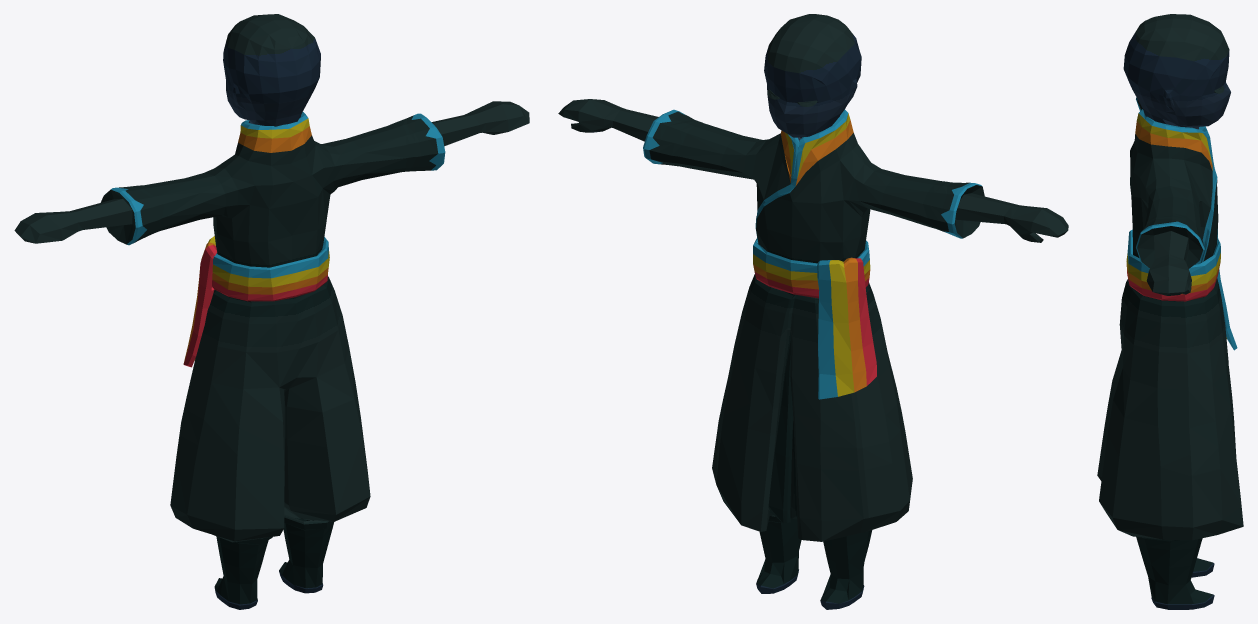
File: CharSkyKid_Body_DarkRainbow.glb
3 renders of one model, left to right at view 1: azimuth 30°, elevation 25°; view 2: azimuth 150°, elevation 25°; view 3: azimuth 270°, elevation 25°, orthographic.
Visible parts, largest first — view 1: CharSkyKid_Body_DarkRainbow; view 2: CharSkyKid_Body_DarkRainbow; view 3: CharSkyKid_Body_DarkRainbow.
Part boxes in pixels (bbox=[...]): CharSkyKid_Body_DarkRainbow: bbox=[14, 14, 529, 609]; CharSkyKid_Body_DarkRainbow: bbox=[558, 14, 1068, 609]; CharSkyKid_Body_DarkRainbow: bbox=[1097, 14, 1243, 609].
Size of the model in its own units: 13.83 by 14.89 by 3.47.
Materials: 1 (1 with a texture image).
